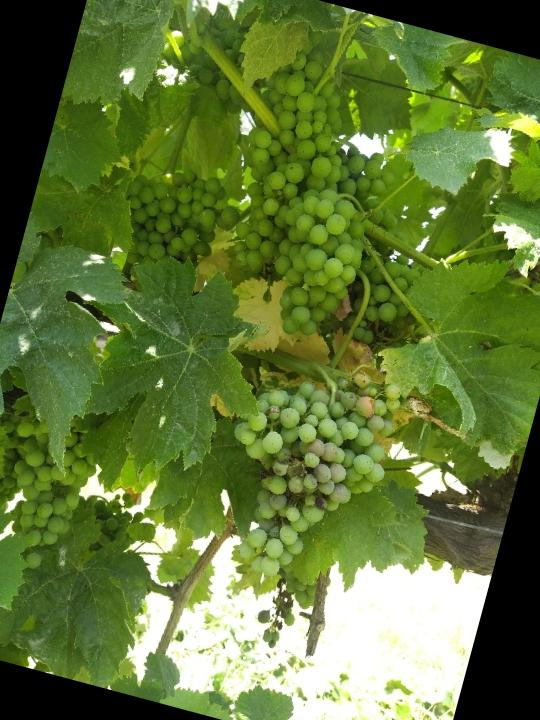grape: (200, 37, 420, 350), (198, 349, 406, 599), (103, 159, 241, 302), (0, 405, 109, 581)
